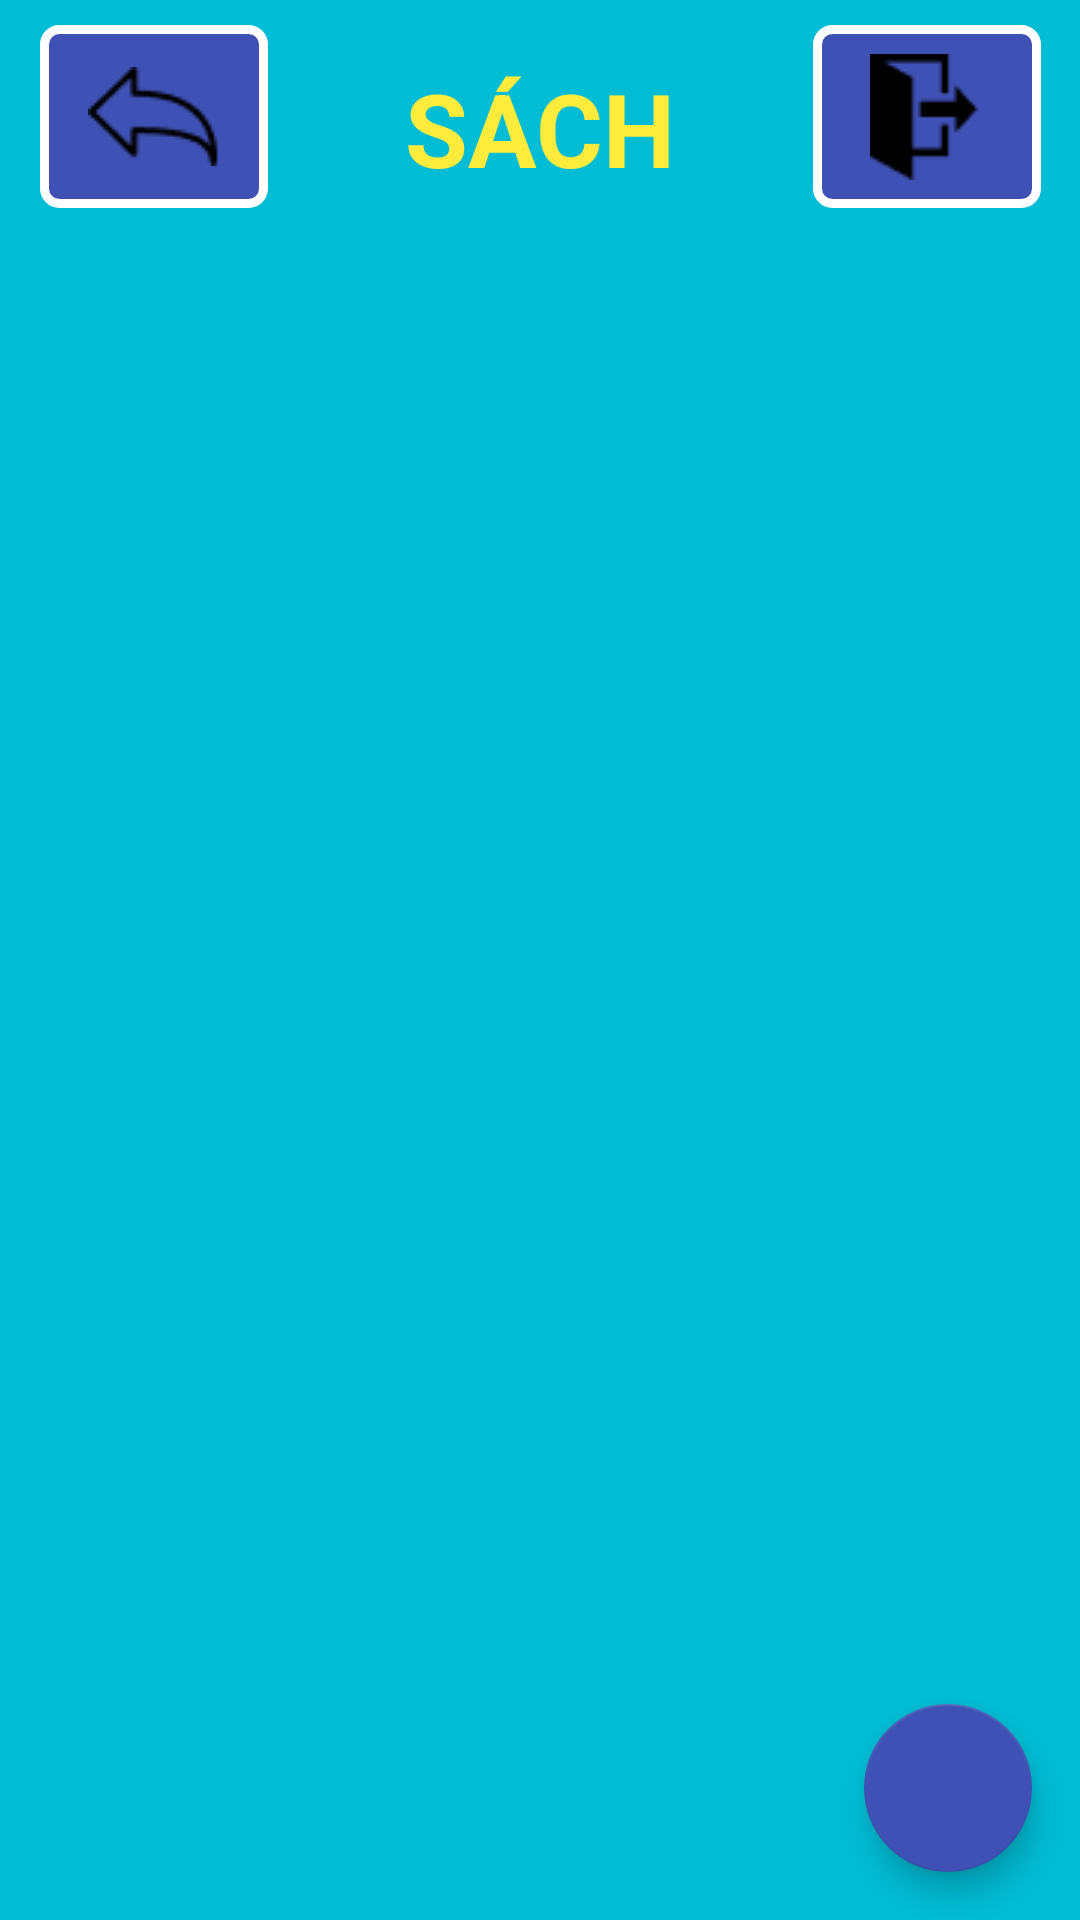

Locate icon controls on the screen. Image size 1080w x 1920h, boxes as (x1, y1, x2, y2).
icomoonfreeexit: (813, 25, 1041, 208)
